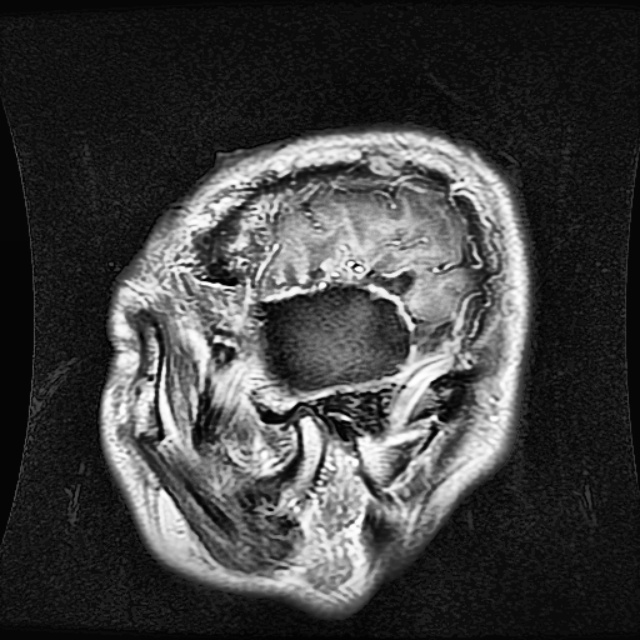Meningioma: (250, 279, 420, 397)
